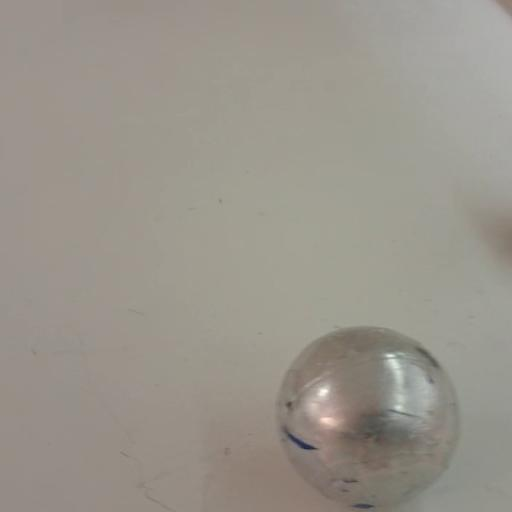alive: (272, 322, 466, 508)
